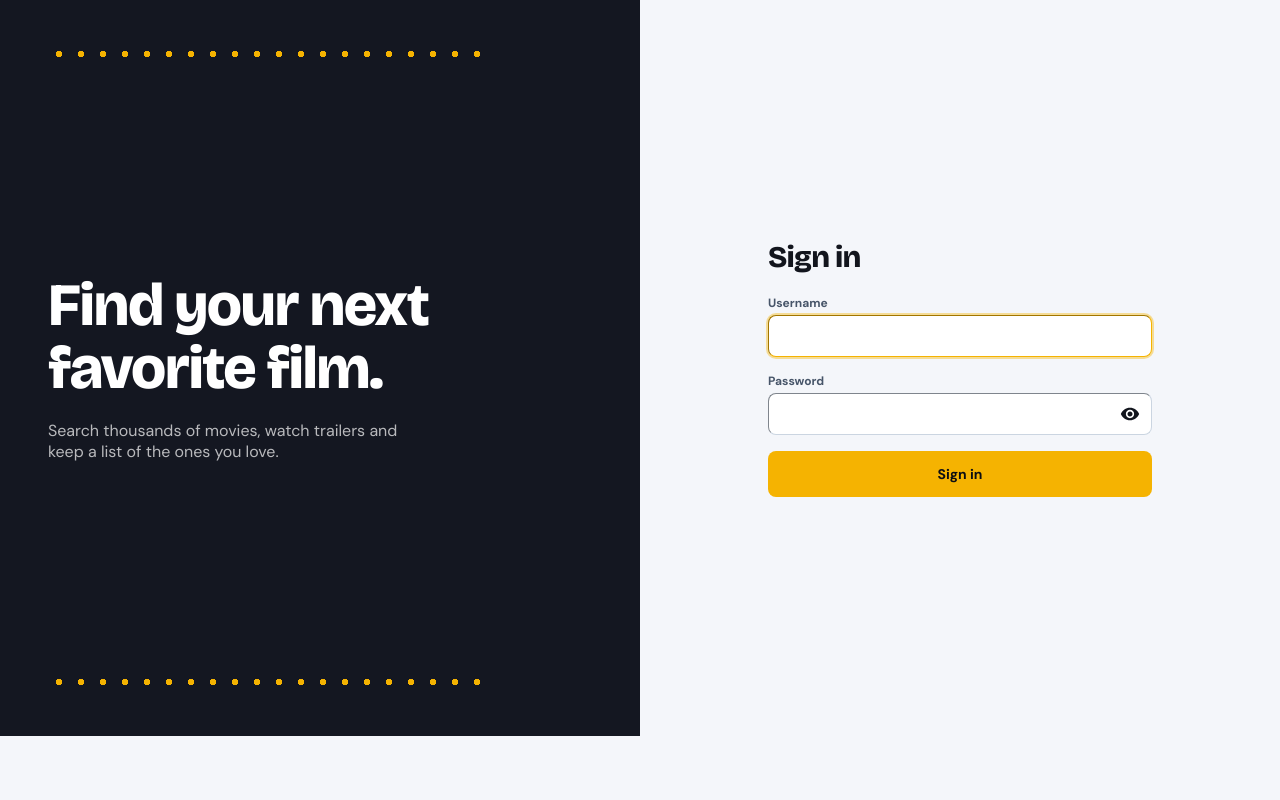
Test case: shows field errors and does not submit invalid input
Click the button "Sign in": (960, 474) x1=768 y1=451 x2=1152 y2=497
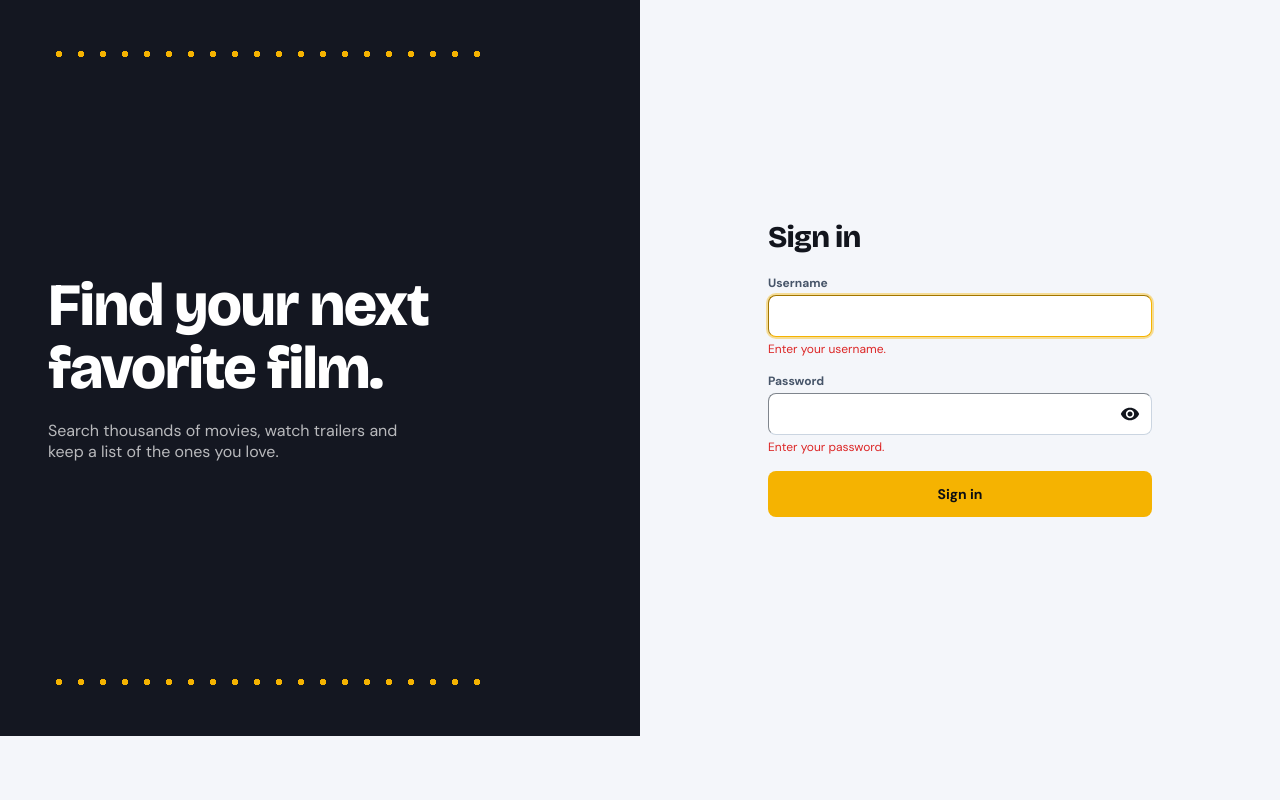
Check: the text "Enter your username." is shown, box x1=768 y1=341 x2=886 y2=357
